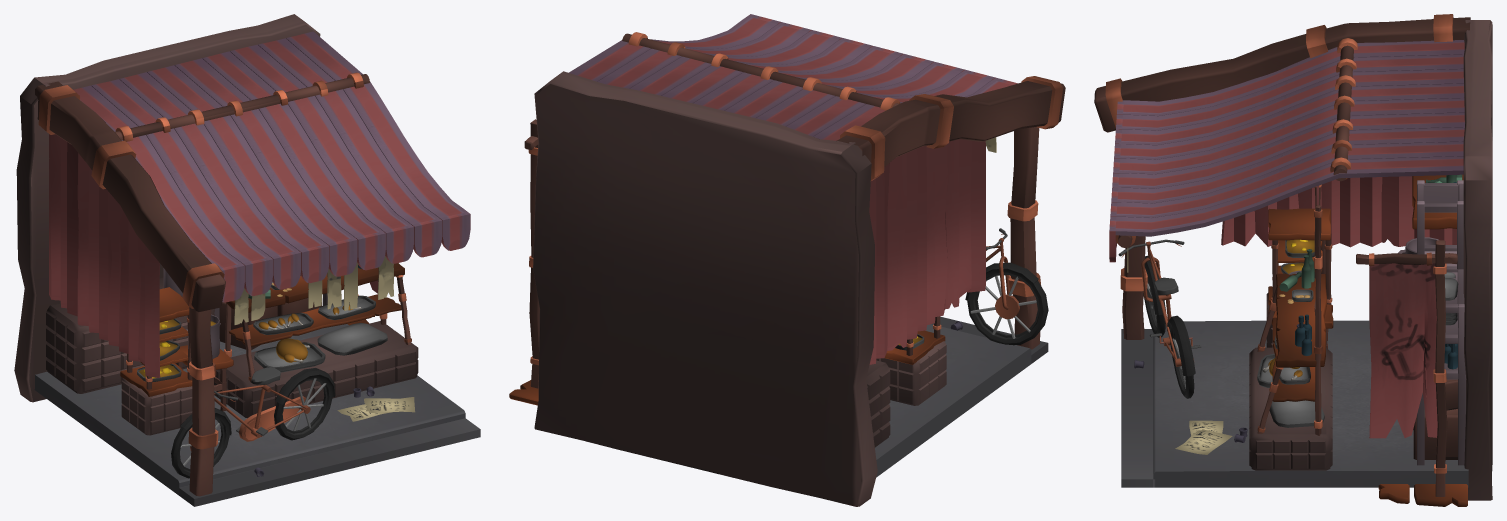
File: dae_crib_-_corner_shop.glb
3 renders of one model, left to right at view 1: azimuth 30°, elevation 25°; view 2: azimuth 150°, elevation 25°; view 3: azimuth 270°, elevation 25°, orthographic. The views are drawn at different scales.
Visible parts, largest first — view 1: pCube51; view 2: pCube51; view 3: pCube51.
Boxes of the visible parts, box(x1,y1,x2,y2) form: pCube51: box(14, 14, 480, 506); pCube51: box(509, 14, 1065, 506); pCube51: box(1094, 14, 1492, 506).
Bounding box in the file's own units: 3.59 × 3.27 × 3.48.
1 material, 1 textured.
